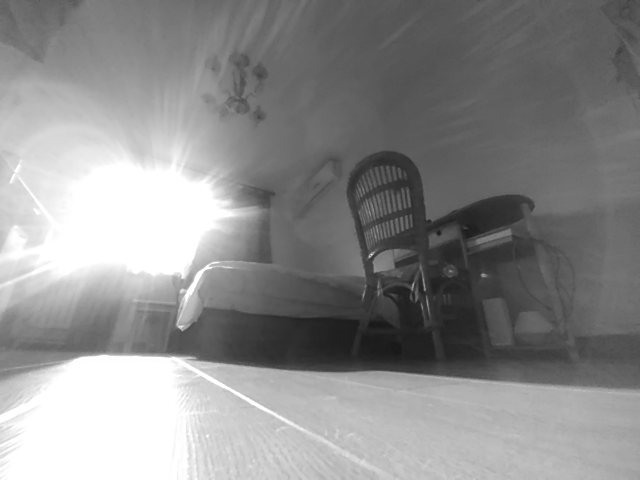curtain: (63, 155, 141, 355)
